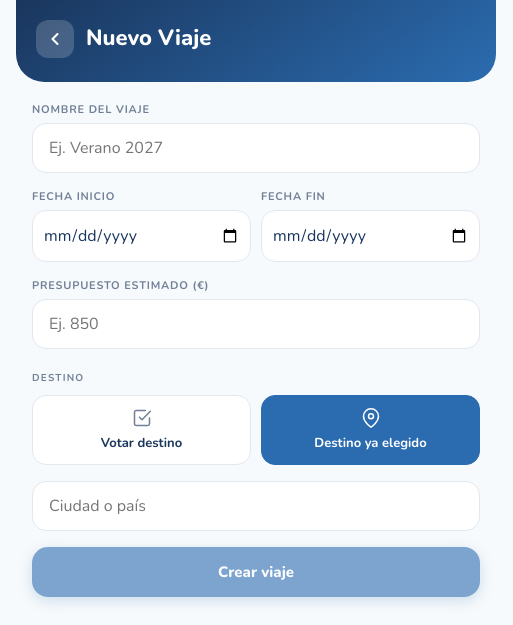
Test case: CrearViaje › desactiva el botón mientras se crea el viaje
Type "  Roma 2027  " into the field labelled "Nombre del viaje" at point(256, 148), box [32,123,480,173]
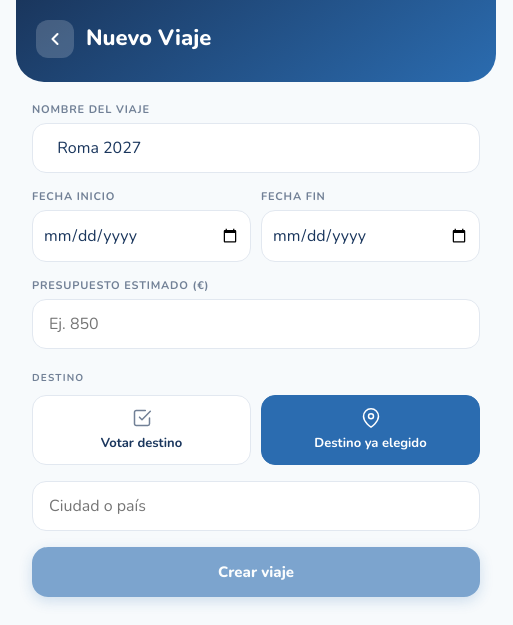
Type "850" into the number field labelled "Presupuesto estimado (€)" at point(256, 324), box [32,299,480,349]
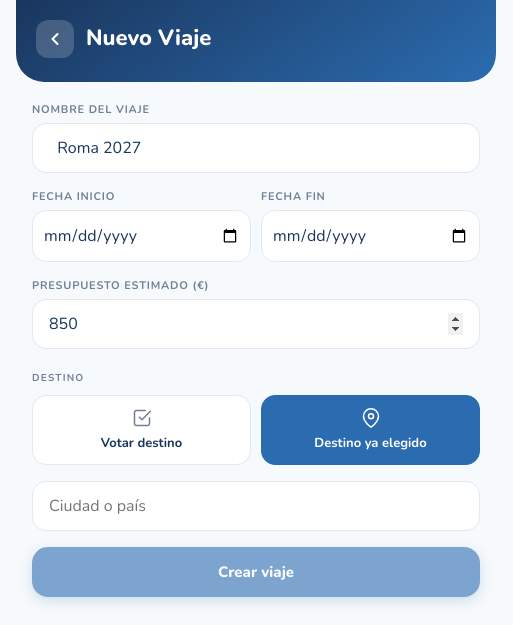
Type " Roma " into the field with placeholder "Ciudad o país" at point(256, 506), box [32,481,480,531]
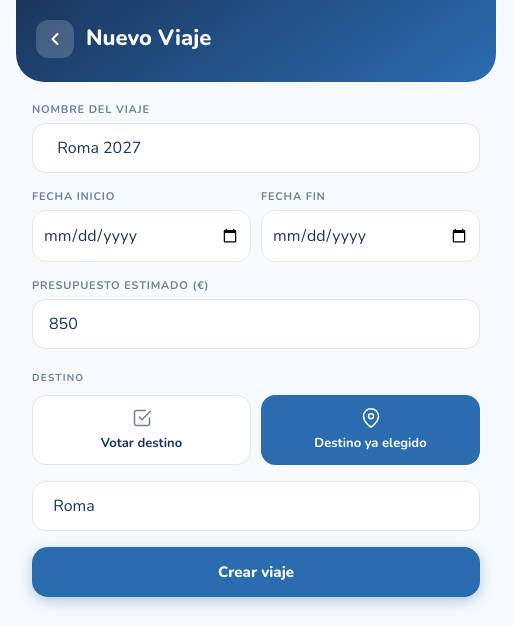
Click the button "Crear viaje" at point(256, 572), box [32,547,480,597]
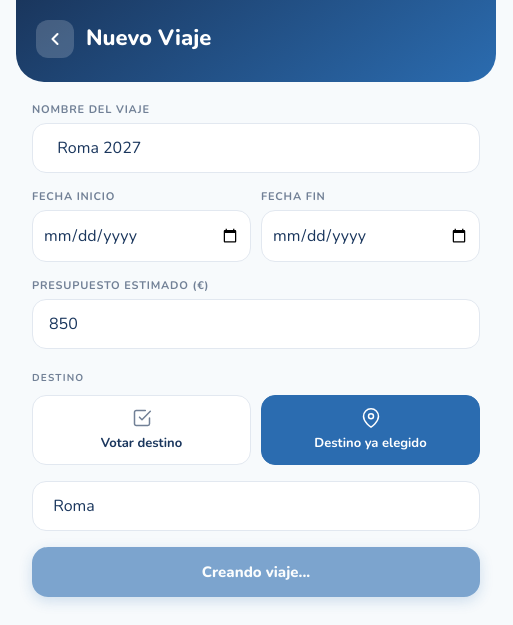
Now the button "Creando viaje..." is shown, box [32,547,480,597]
Now the button "Creando viaje..." is disabled, box [32,547,480,597]
